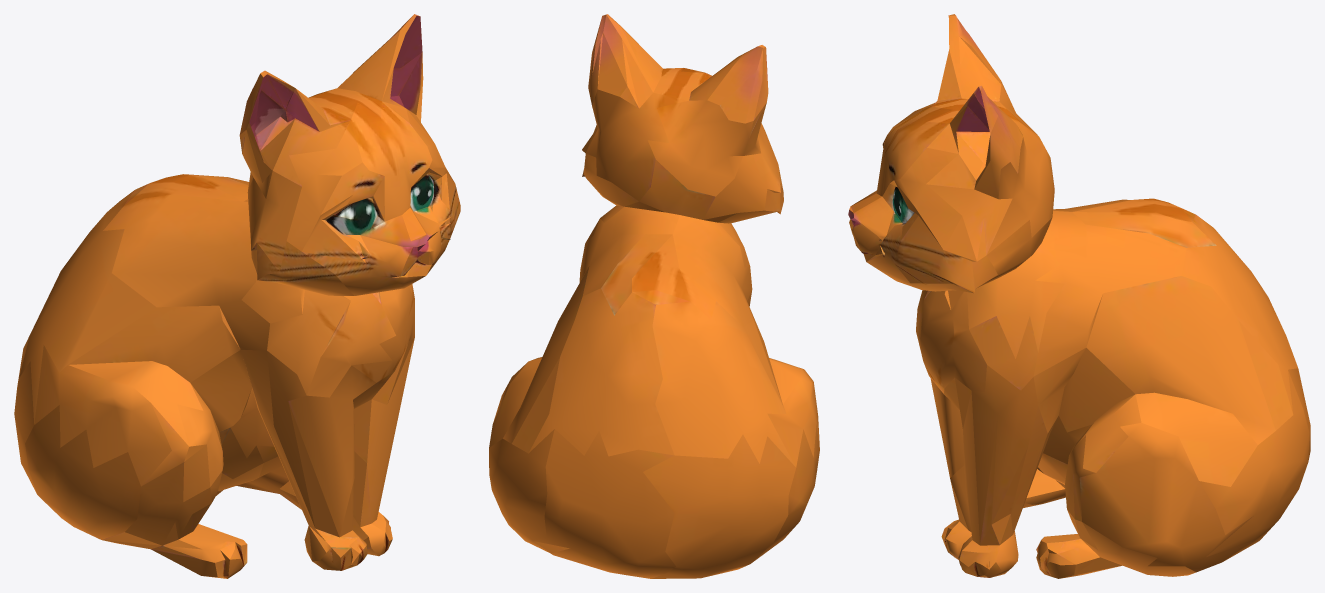
The model's file is cat.glb.
The picture shows the model from 3 angles, left to right: view 1: azimuth 30°, elevation 25°; view 2: azimuth 150°, elevation 25°; view 3: azimuth 270°, elevation 25°; orthographic projection. The views are drawn at different scales.
Bounding box in the file's own units: 1.27 × 1.9 × 1.58.
Materials: 1 (1 with a texture image).
